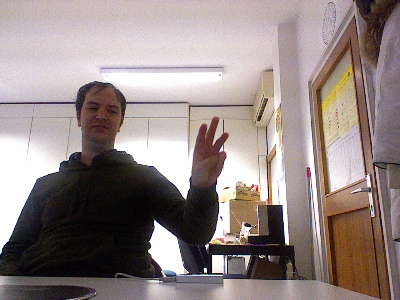三分: (189, 114, 228, 188)
